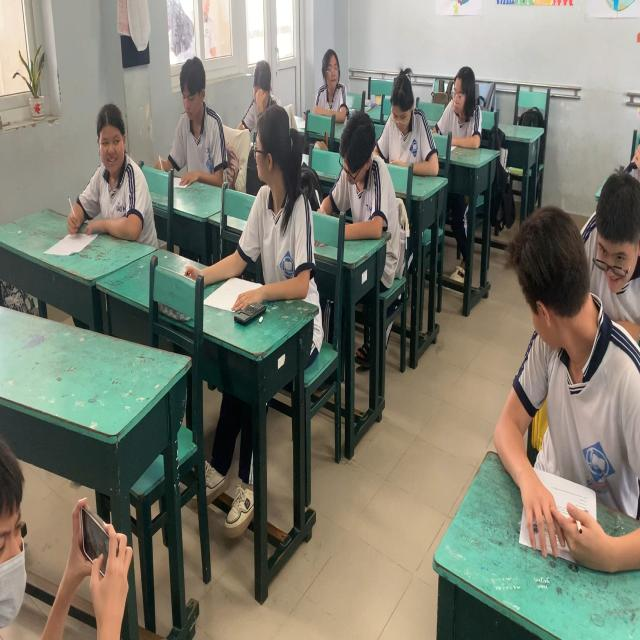cheating: (489, 187, 640, 533), (244, 98, 310, 313), (76, 97, 148, 258), (310, 26, 355, 127)
not_cheating: (330, 105, 391, 262), (164, 46, 224, 200), (372, 59, 438, 191), (440, 44, 486, 157), (243, 42, 278, 130)
